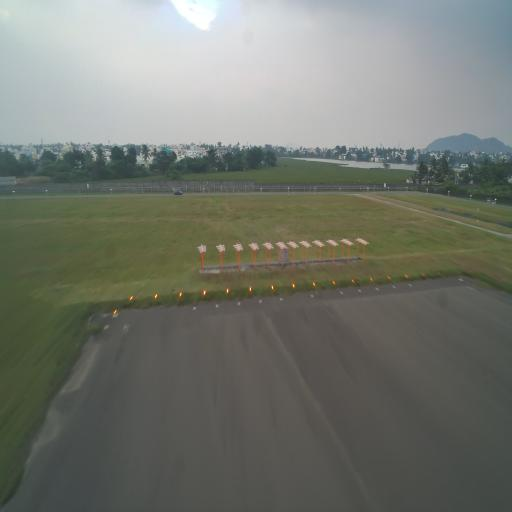on: (435, 268, 442, 278), (248, 283, 254, 294), (420, 270, 426, 280), (386, 272, 392, 282), (350, 276, 356, 286), (331, 276, 336, 288), (202, 288, 208, 298), (112, 307, 118, 317), (153, 291, 158, 302), (368, 274, 374, 283), (292, 282, 297, 292), (270, 282, 275, 292), (129, 294, 134, 304), (404, 271, 409, 280), (225, 286, 229, 297), (312, 279, 316, 289), (179, 290, 182, 300)
